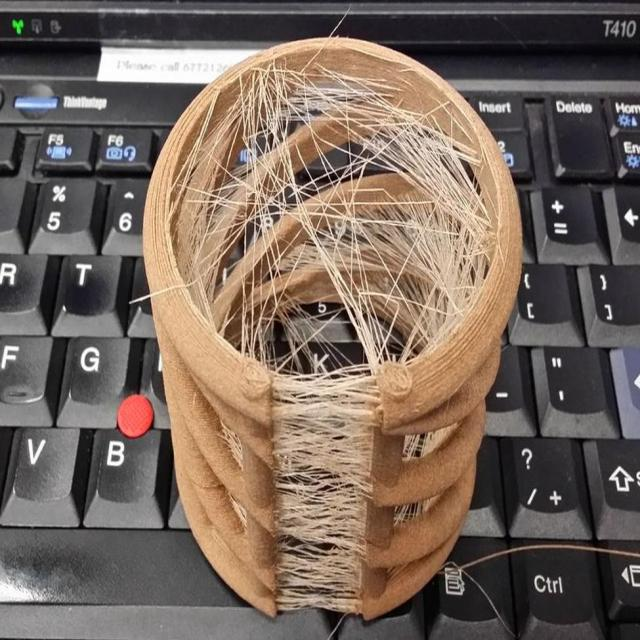Stringing: (180, 70, 486, 381), (277, 388, 365, 618)
